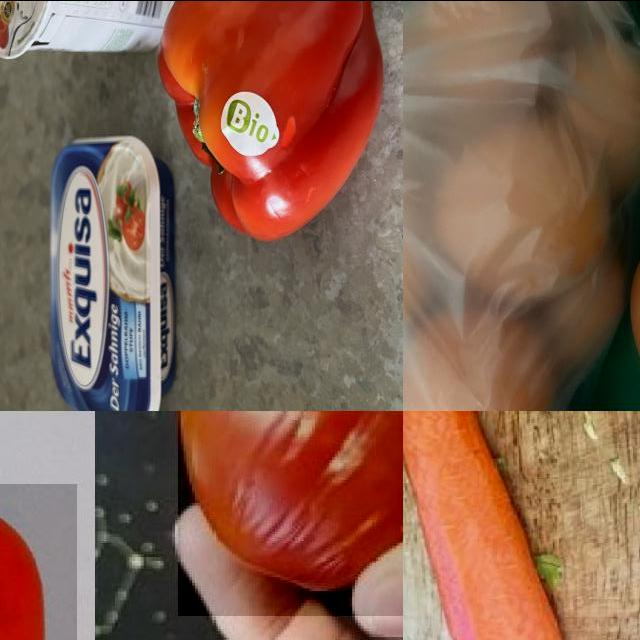cabbage: (151, 1, 388, 256)
carrot: (404, 411, 587, 640)
egg: (438, 123, 604, 289), (404, 1, 547, 123), (404, 296, 554, 411), (545, 239, 625, 371), (565, 41, 640, 179), (404, 167, 432, 349)
tomato: (1, 484, 78, 640)
